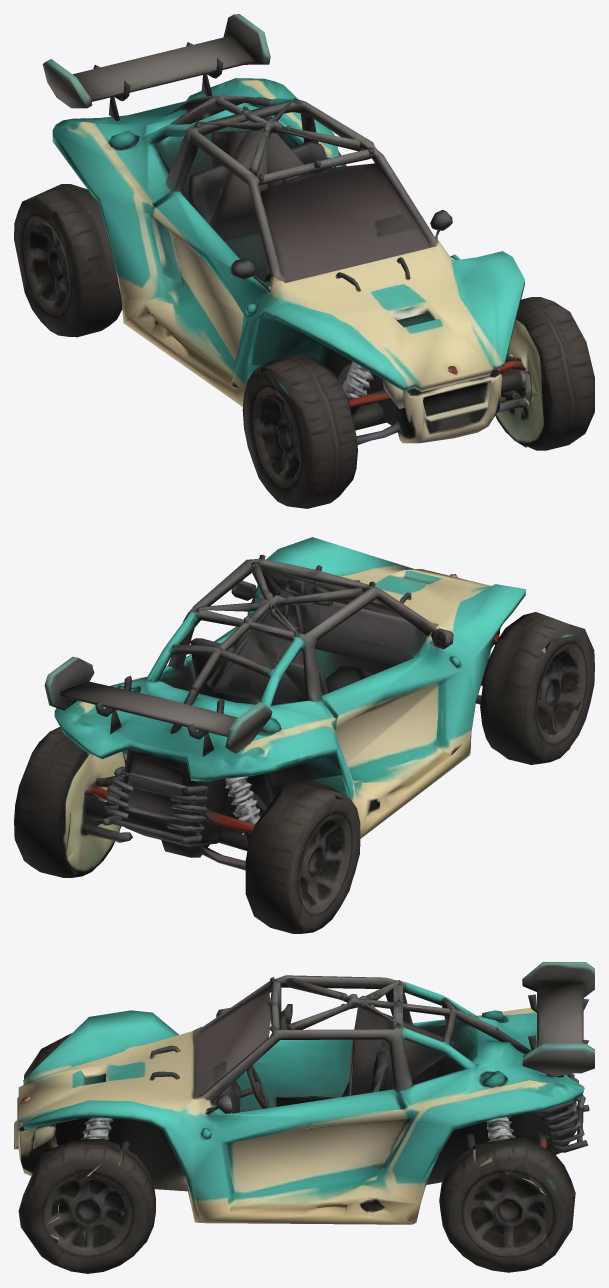
File: rally-buggy-low.glb
The picture shows the model from 3 angles, top to bottom: view 1: azimuth 30°, elevation 25°; view 2: azimuth 150°, elevation 25°; view 3: azimuth 270°, elevation 25°; orthographic projection. The views are drawn at different scales.
Visible parts, largest first — view 1: Car_Body, Wheel_RL, Wheel_FL, Wheel_FR; view 2: Car_Body, Wheel_FL, Wheel_RL, Wheel_RR; view 3: Car_Body, Wheel_RR, Wheel_FR.
Boxes of the visible parts, x1,y1,x2,y2 form: Car_Body: (14,14,594,508); Wheel_RL: (24,212,127,337); Wheel_FL: (242,355,299,507); Wheel_FR: (495,297,539,447); Car_Body: (14,537,594,933); Wheel_FL: (469,639,583,764); Wheel_RL: (274,775,360,933); Wheel_RR: (64,749,127,877); Car_Body: (14,962,594,1271); Wheel_RR: (405,1138,551,1272); Wheel_FR: (46,1145,200,1273).
Bounding box in the file's own units: 1.88 × 1.52 × 3.65.
Materials: 1 (1 with a texture image).
